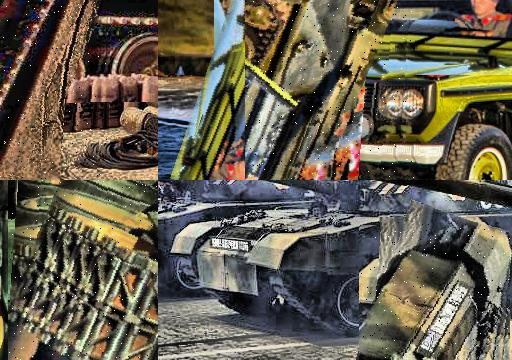tanks: (173, 181, 512, 334), (246, 1, 400, 181), (10, 181, 159, 360), (361, 224, 511, 360), (1, 1, 105, 181), (159, 181, 304, 288), (375, 181, 512, 206)
